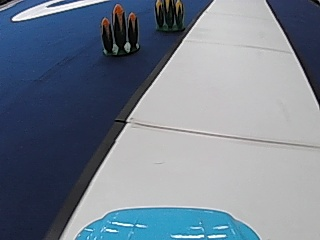corn: (99, 2, 141, 56), (154, 0, 185, 32)
